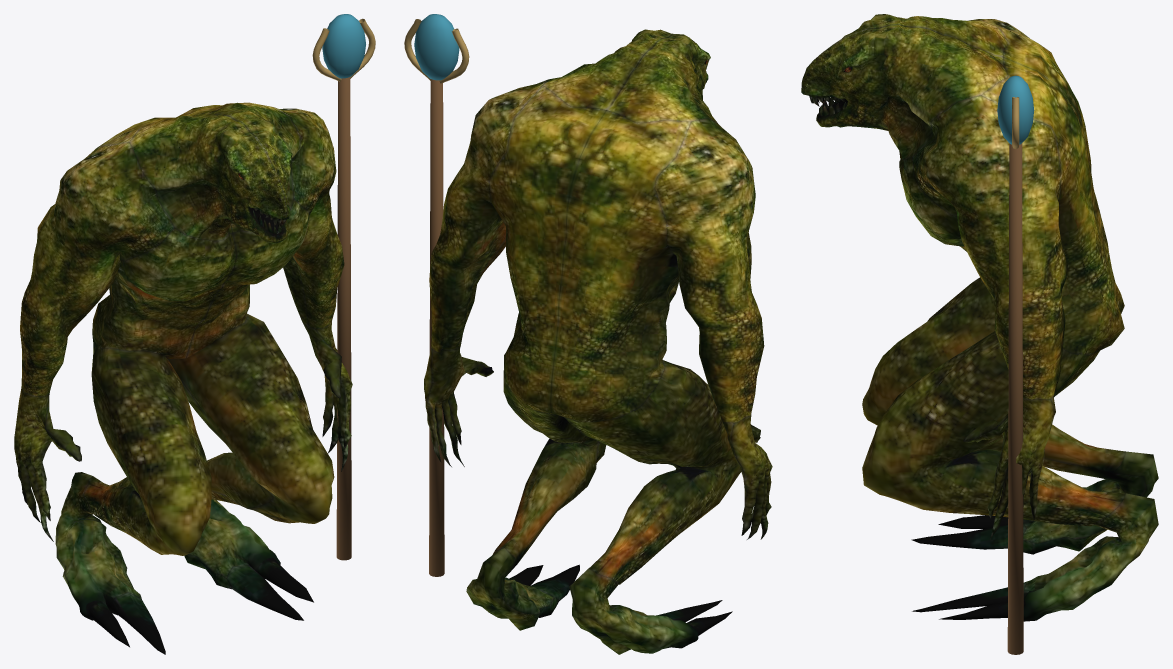
The model's file is actor-dragon-summoner-mobile.glb.
3 views of the same model, side by side, from view 1: azimuth 30°, elevation 25°; view 2: azimuth 150°, elevation 25°; view 3: azimuth 270°, elevation 25° (orthographic). The views are drawn at different scales.
Visible parts, largest first — view 1: lizardman · posed; view 2: lizardman · posed; view 3: lizardman · posed.
Boxes of the visible parts, left/top/right/bottom form: lizardman · posed: left=14, top=14, right=375, bottom=654; lizardman · posed: left=404, top=14, right=772, bottom=654; lizardman · posed: left=801, top=14, right=1158, bottom=654.
Size of the model in its own units: 1.41 by 2.1 by 1.16.
Materials: 4 (1 with a texture image).
